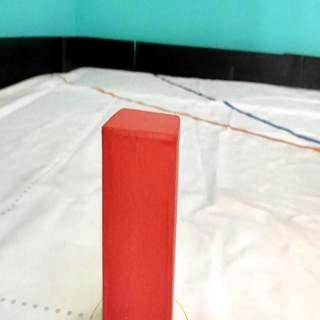redbox: (102, 108, 180, 320)
